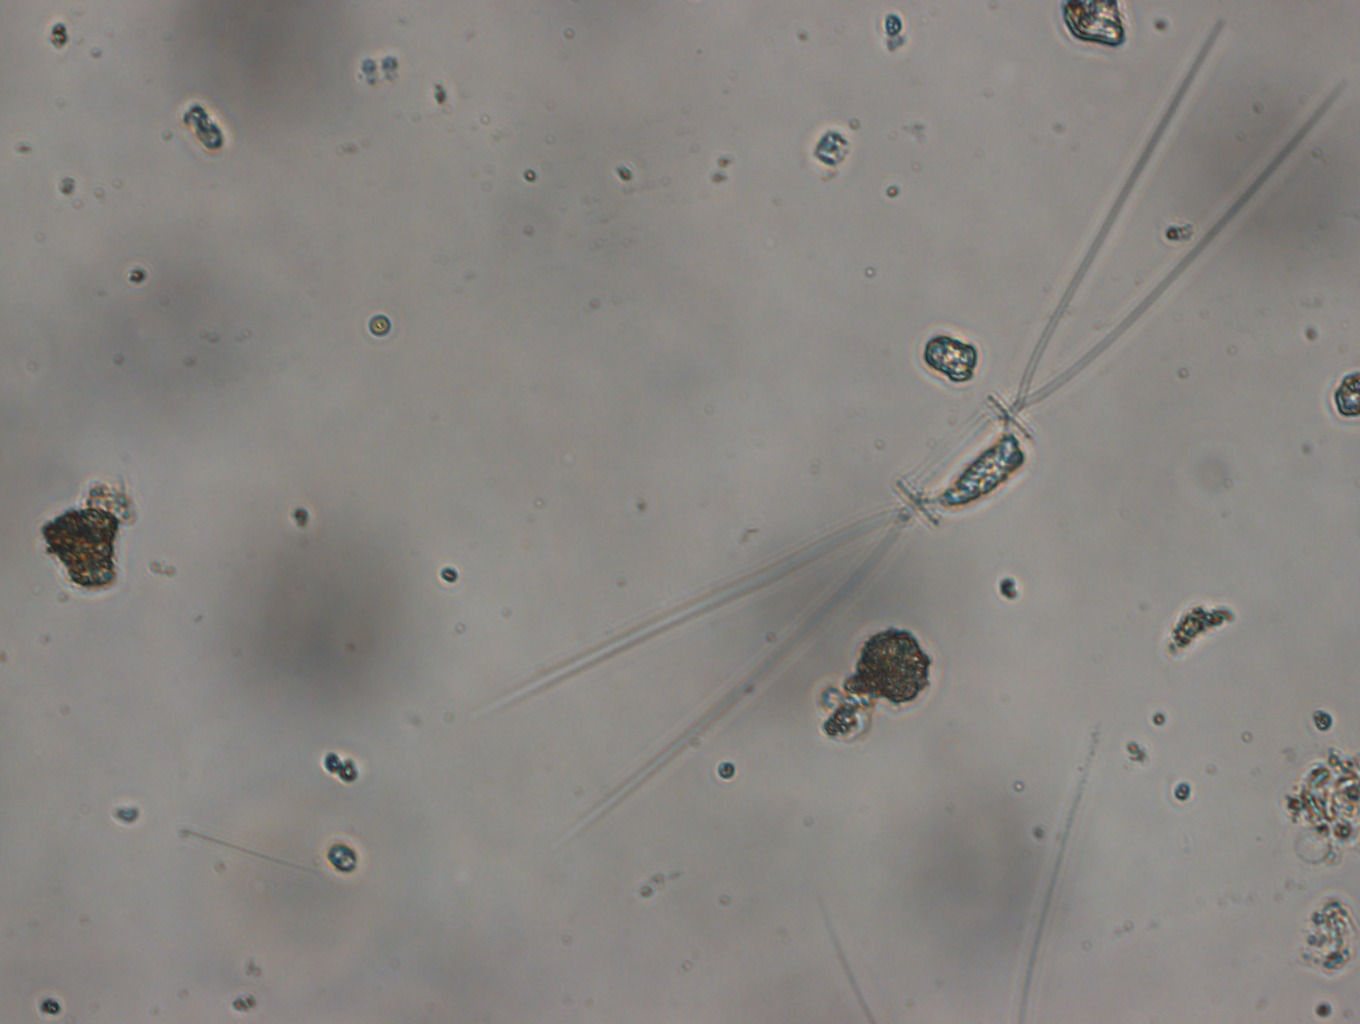chaetoceros: (490, 35, 1360, 844)
